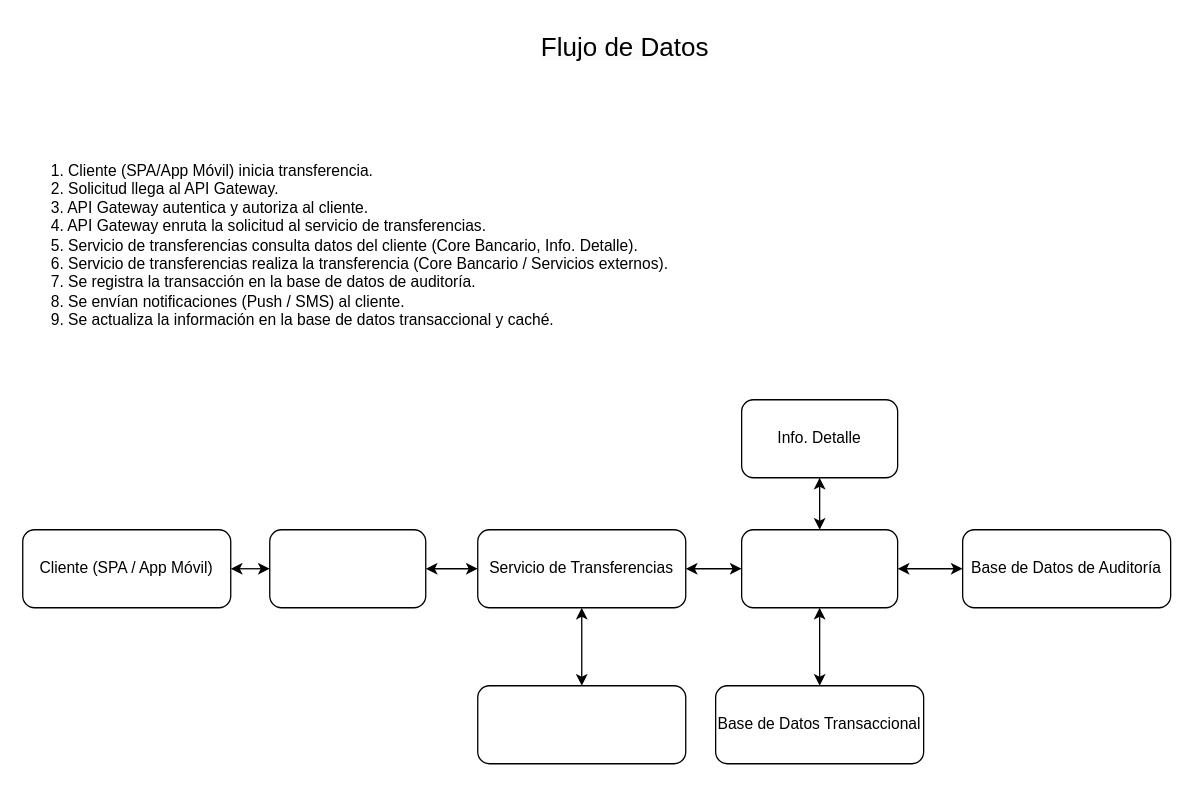
Some shapes in this 1193 by 787 pixel diagram are drawn without their labels. The shapes that lost their labels are listed below. From the top down, each one's centre as x and y in pixels, then its label:
point (347, 568): API Gateway
point (819, 568): Core Bancario
point (581, 724): Sistema de Notificaciones
